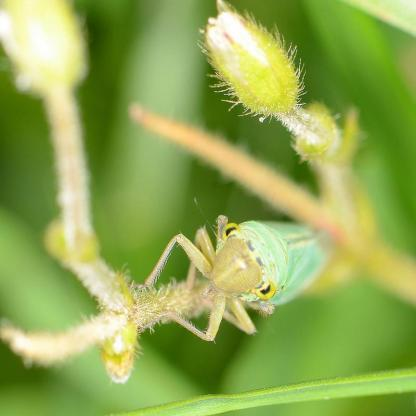Green-Leafhopper: (148, 207, 352, 345)
